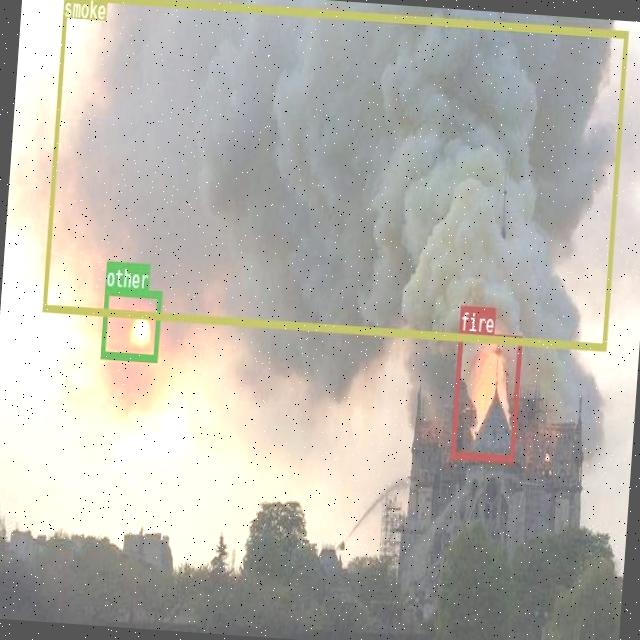fire: (450, 330, 520, 460)
smoke: (40, 0, 627, 348)
